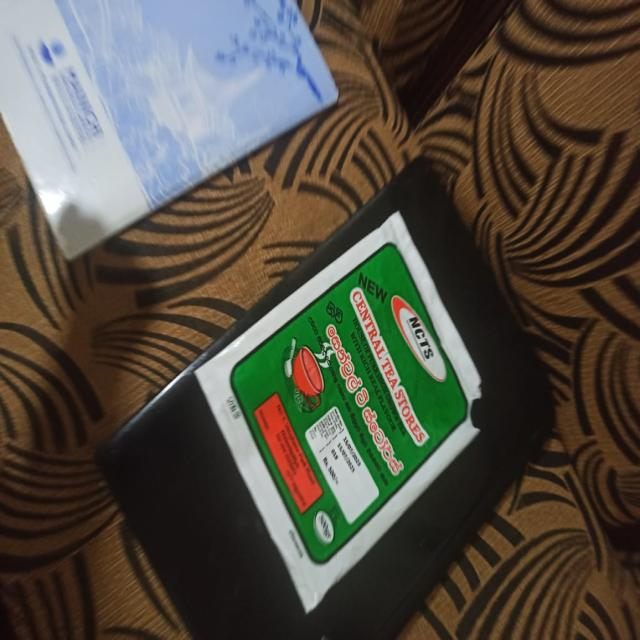Central Tea: (248, 336, 459, 516)
